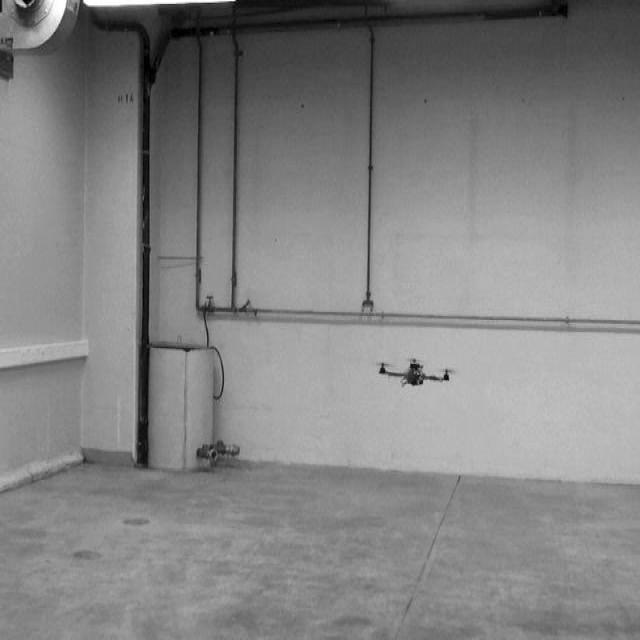drone: (373, 354, 460, 385)
